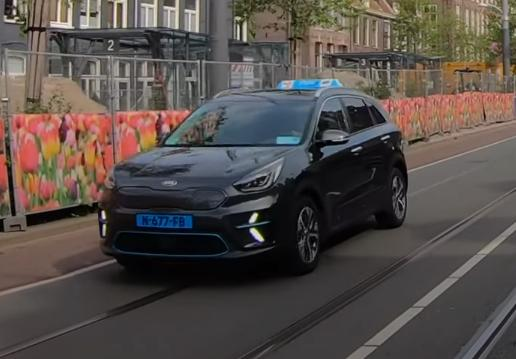license-plate: (135, 212, 194, 230)
